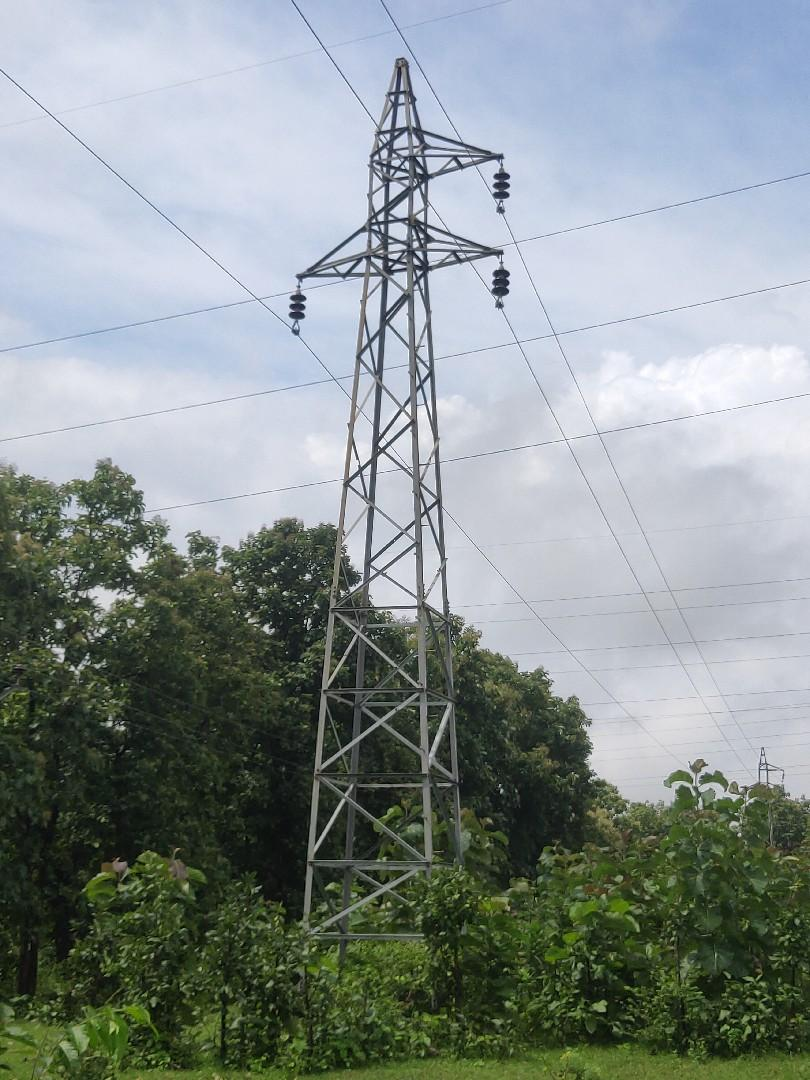GSM Antenna: (287, 50, 521, 869)
